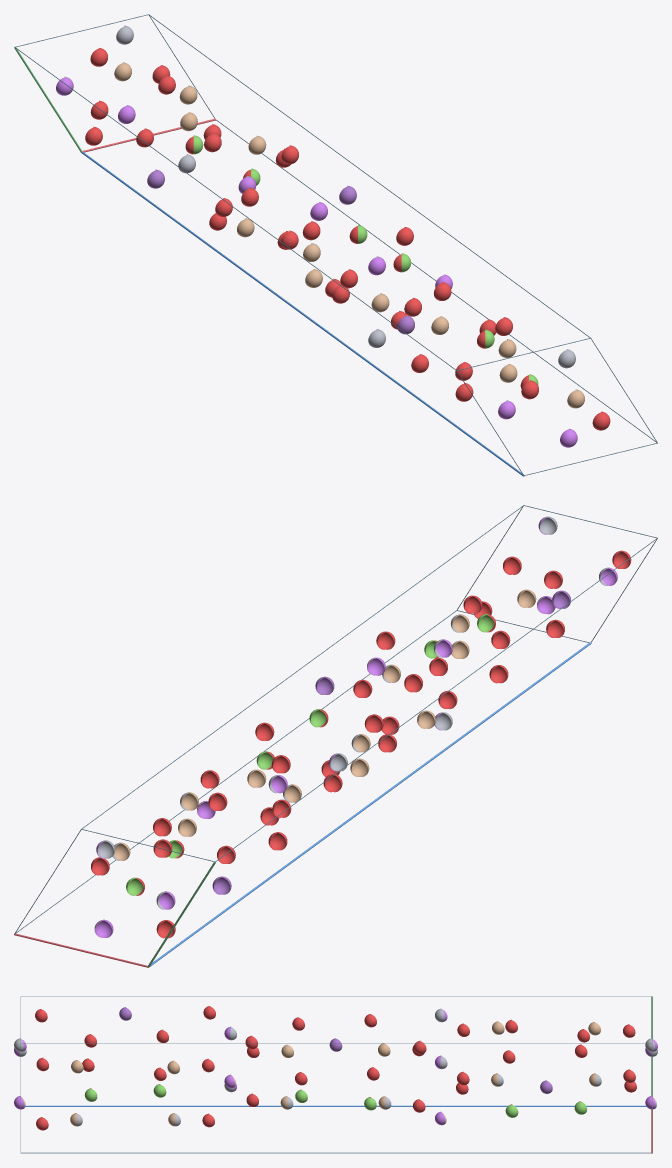
The model's file is lepidolite.glb.
The picture shows the model from 3 angles, top to bottom: view 1: azimuth 30°, elevation 25°; view 2: azimuth 150°, elevation 25°; view 3: azimuth 270°, elevation 25°; orthographic projection. The views are drawn at different scales.
Visible parts, largest first — view 1: Ô mạng và các trục a, b, c; view 2: Ô mạng và các trục a, b, c; view 3: Ô mạng và các trục a, b, c.
Part boxes in pixels (bbox=[...]): Ô mạng và các trục a, b, c: bbox=[14, 14, 657, 476]; Ô mạng và các trục a, b, c: bbox=[14, 505, 657, 967]; Ô mạng và các trục a, b, c: bbox=[20, 996, 652, 1153].
Bounding box in the file's own units: 7.84 × 4.56 × 30.36.
